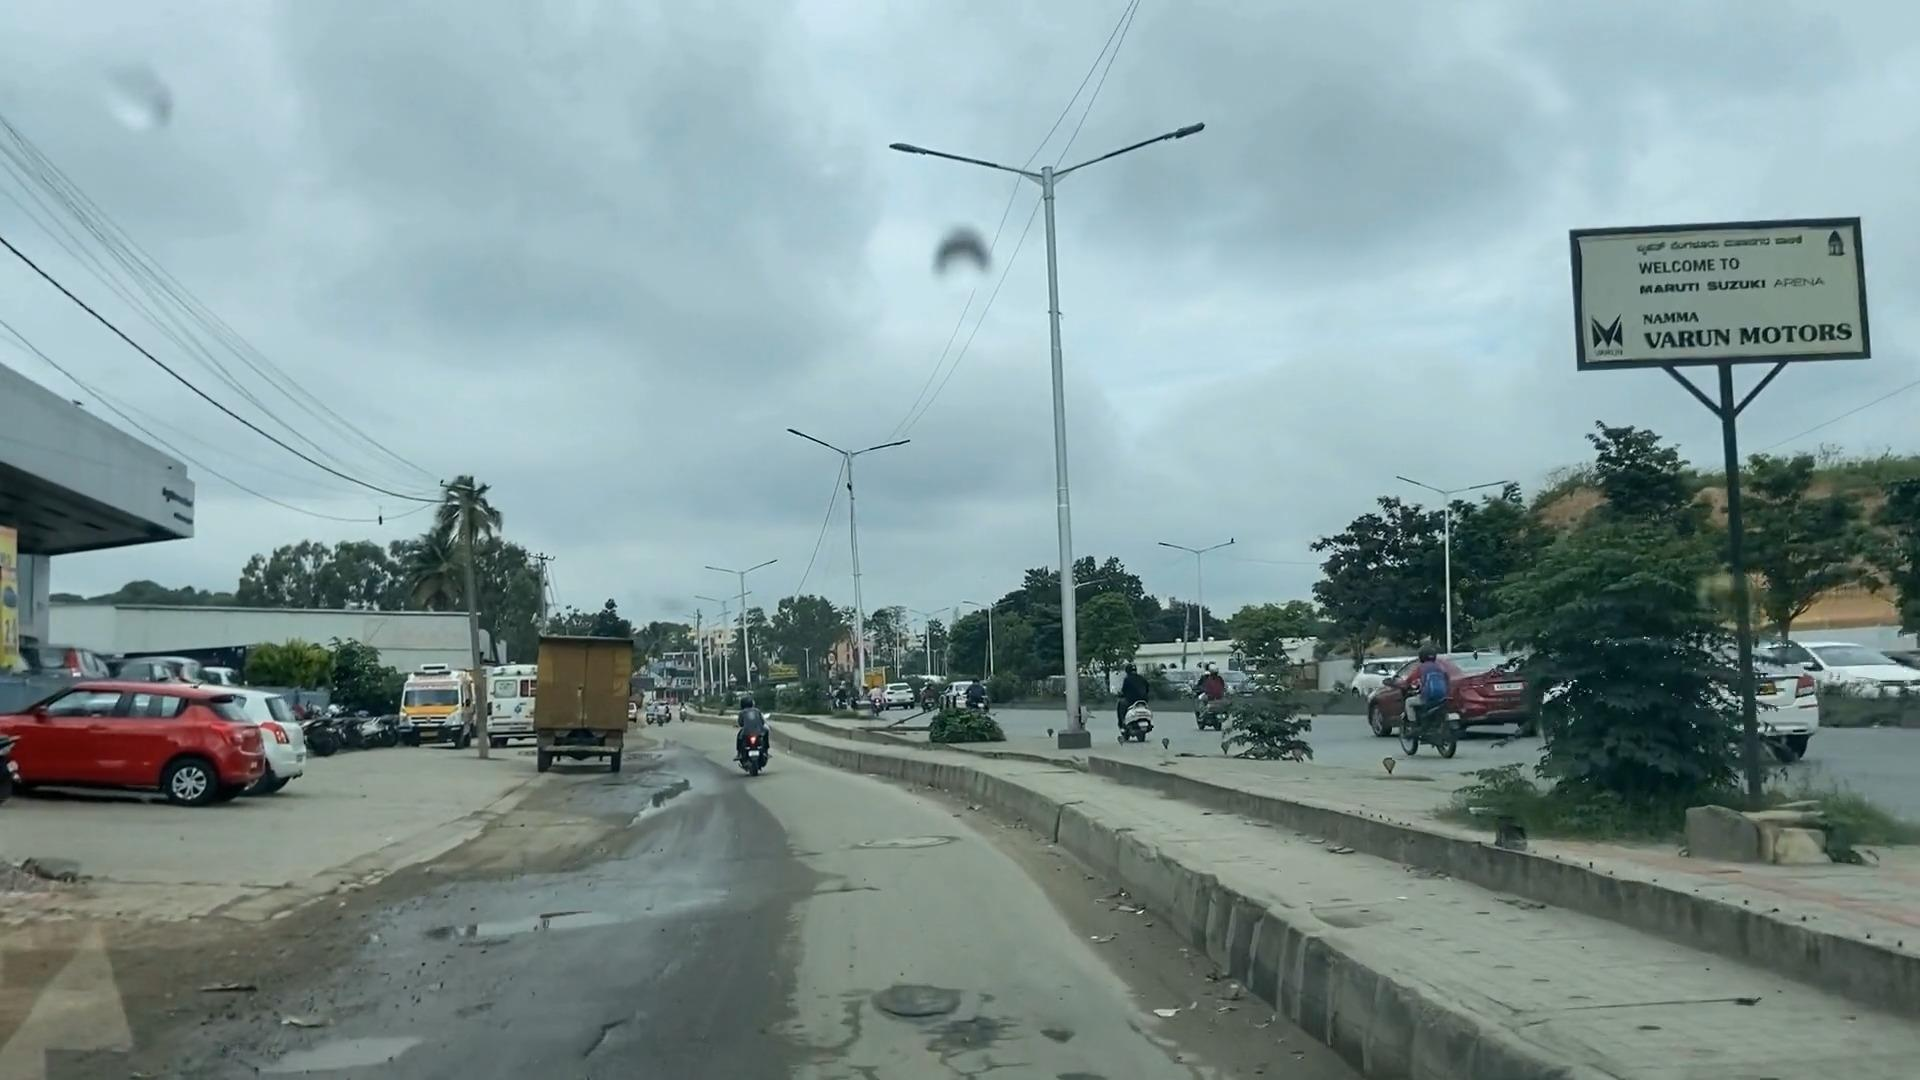RoadDamages: (844, 973, 1089, 1080), (384, 870, 703, 947), (252, 1010, 460, 1076), (556, 997, 673, 1063), (847, 814, 952, 855)
